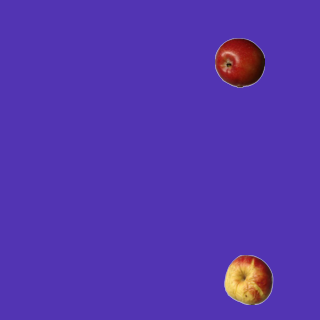Apple Braeburn: (214, 37, 264, 87)
Apple Red Yellow 1: (223, 254, 273, 304)
